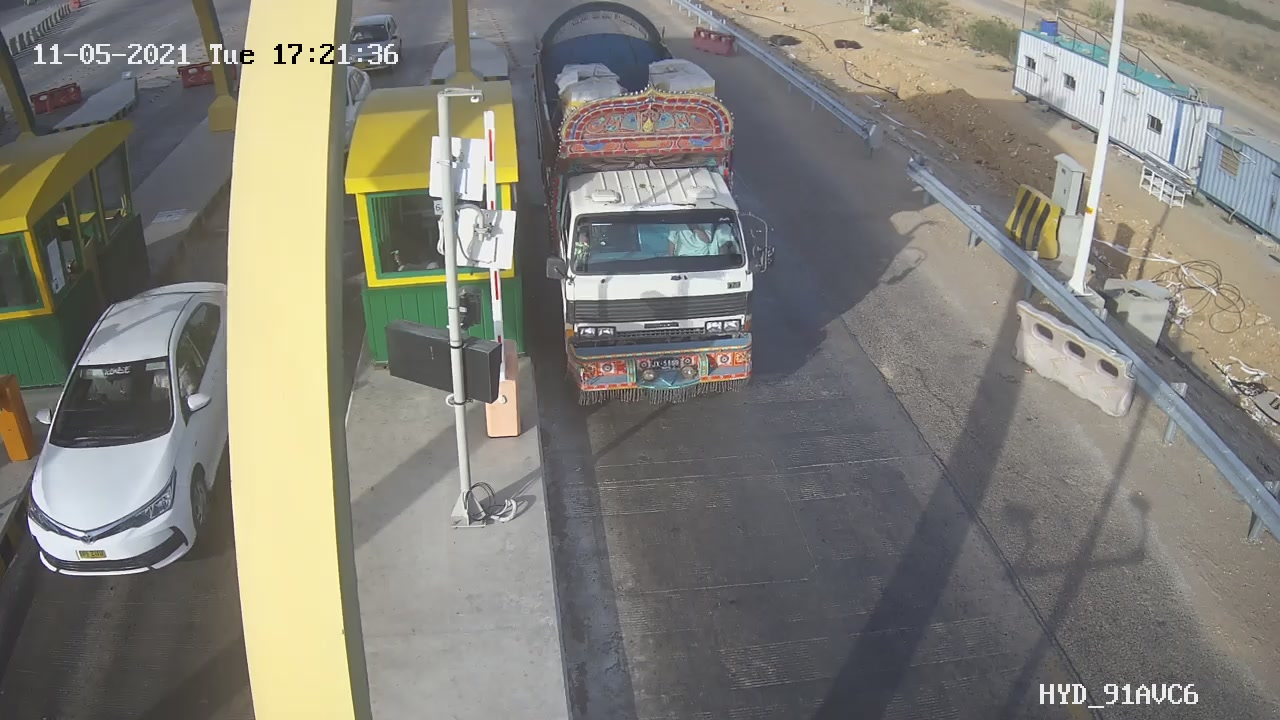F5: (511, 1, 799, 429)
